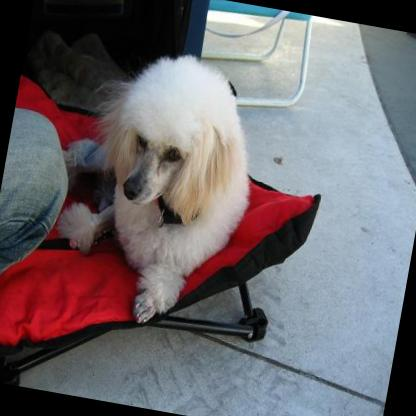toy_poodle: (51, 37, 272, 333)
